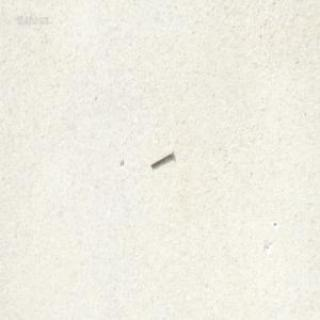Bolttrack_idkeyframe: (149, 148, 173, 168)
